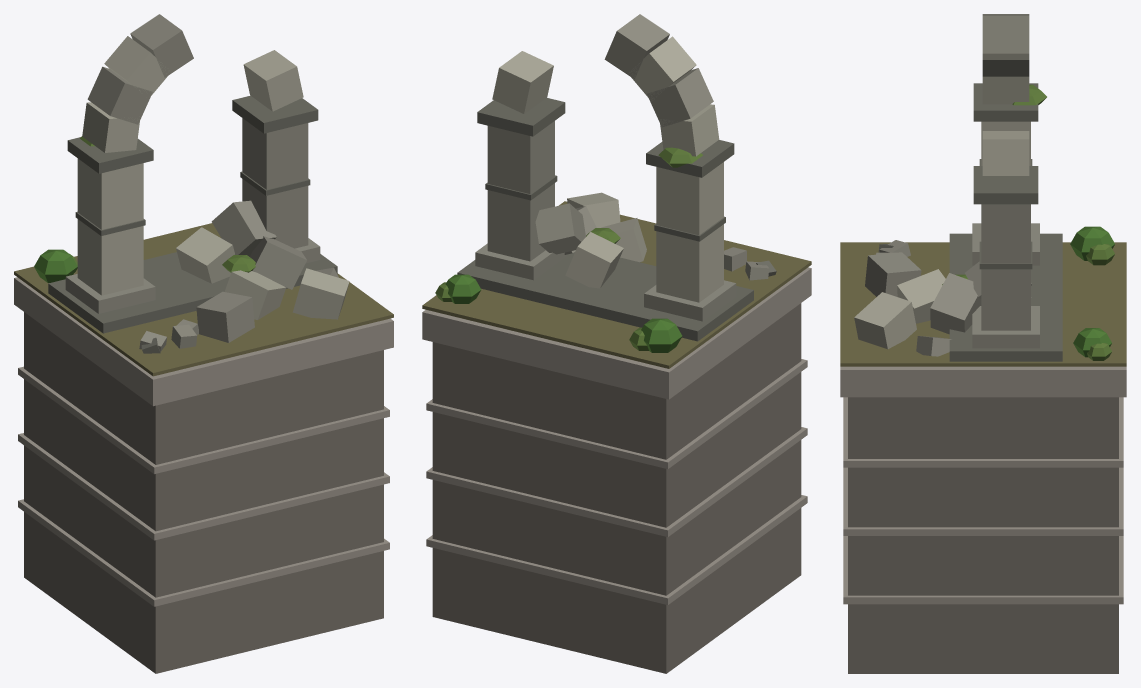
Rendered from decor_fallen_arch.glb.
3 views of the same model, side by side, from view 1: azimuth 30°, elevation 25°; view 2: azimuth 150°, elevation 25°; view 3: azimuth 270°, elevation 25° (orthographic). The views are drawn at different scales.
Visible parts, largest first — view 1: decor_fallen_arch; view 2: decor_fallen_arch; view 3: decor_fallen_arch.
Part boxes in pixels (x1,y1,x2,y2): decor_fallen_arch: [14, 14, 393, 673]; decor_fallen_arch: [422, 14, 811, 673]; decor_fallen_arch: [840, 14, 1126, 673].
Bounding box in the file's own units: 3.8 × 8.64 × 3.8.
